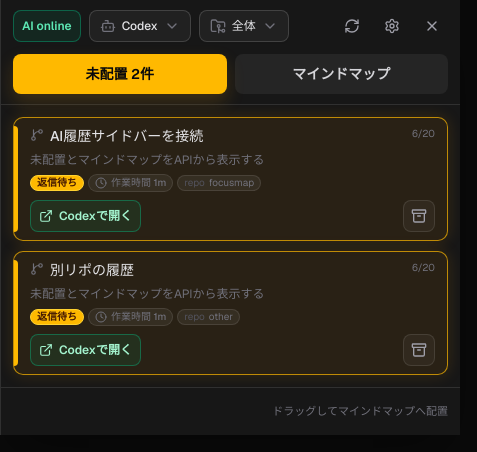
Scenario: CodexChatImportSidebar › shows synced repo options and filters directly to another project repo
Click the button "全体" at [244, 26], box top-left (199, 10), bottom-right (289, 42)
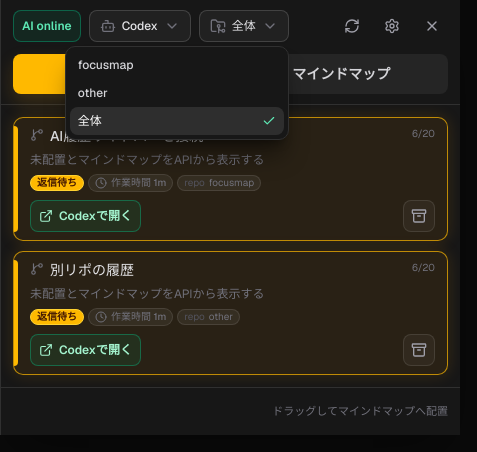
Check: the element with id "ai-history-scope-filter" is shown, box top-left (65, 46), bottom-right (289, 140)
Click the button "other" at [177, 93], box top-left (70, 79), bottom-right (284, 107)
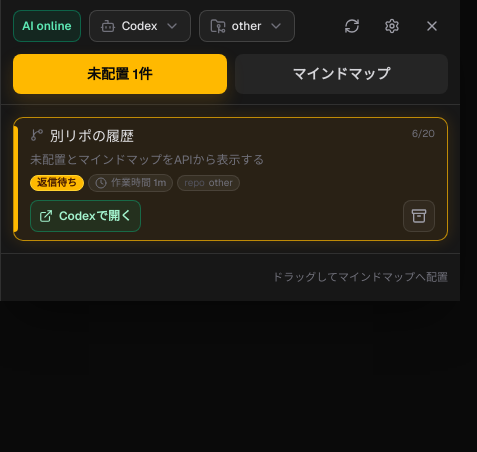
Check: the text "別リポの履歴" is shown, box top-left (50, 127), bottom-right (134, 145)
Check: the button "AI履歴サイドバーを接続" is gone
